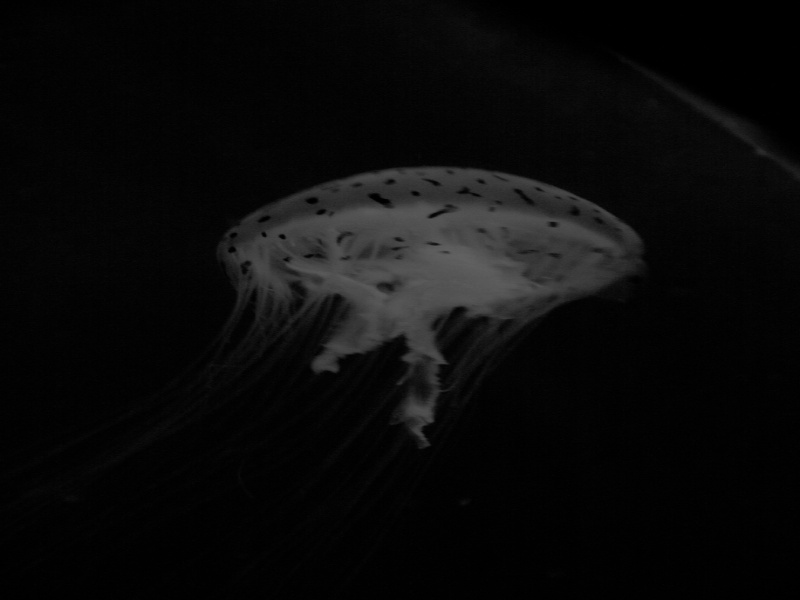Jellyfish: (74, 176, 665, 557)
